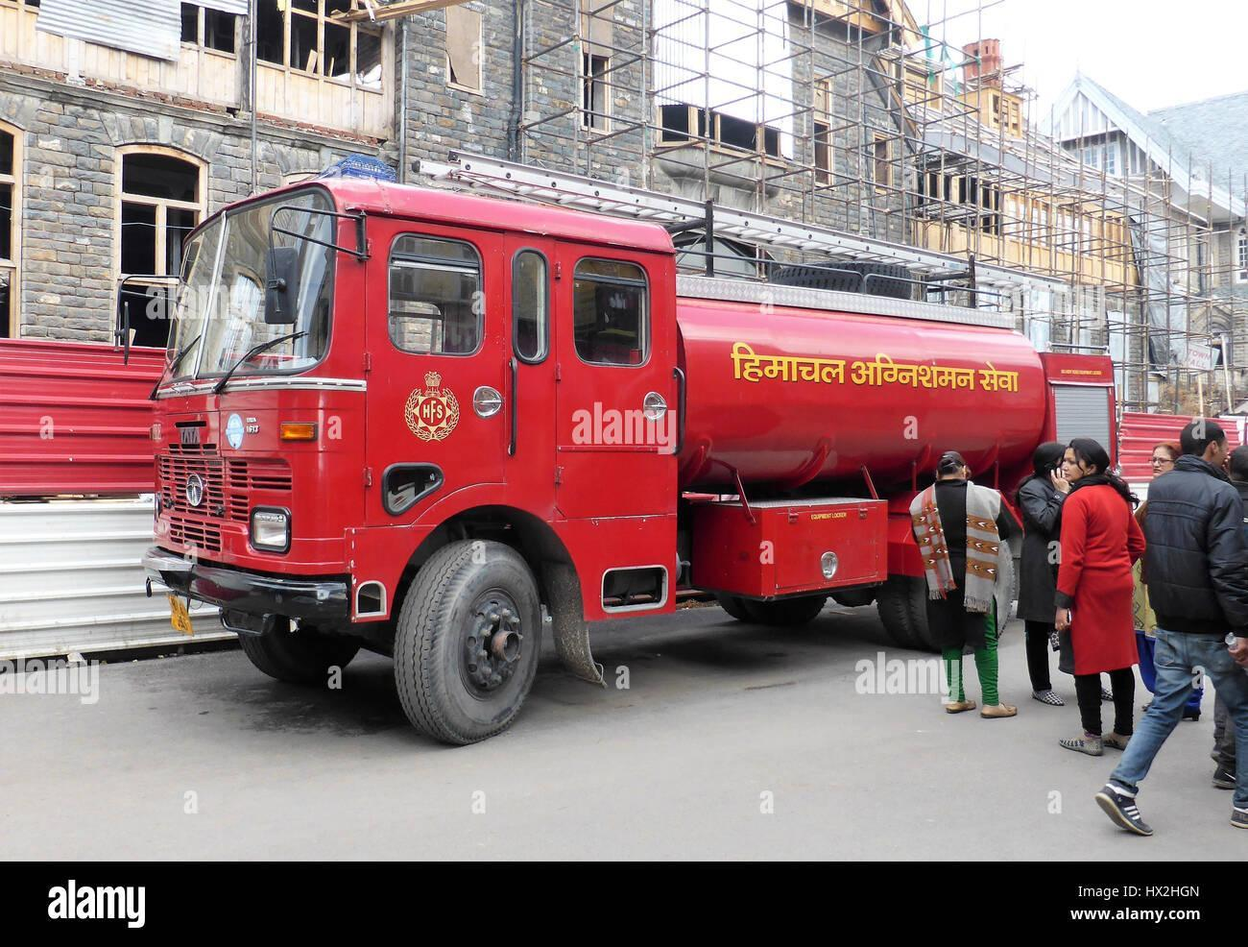Fire-engine: (157, 174, 1095, 748), (393, 143, 1009, 310), (400, 365, 470, 459)
